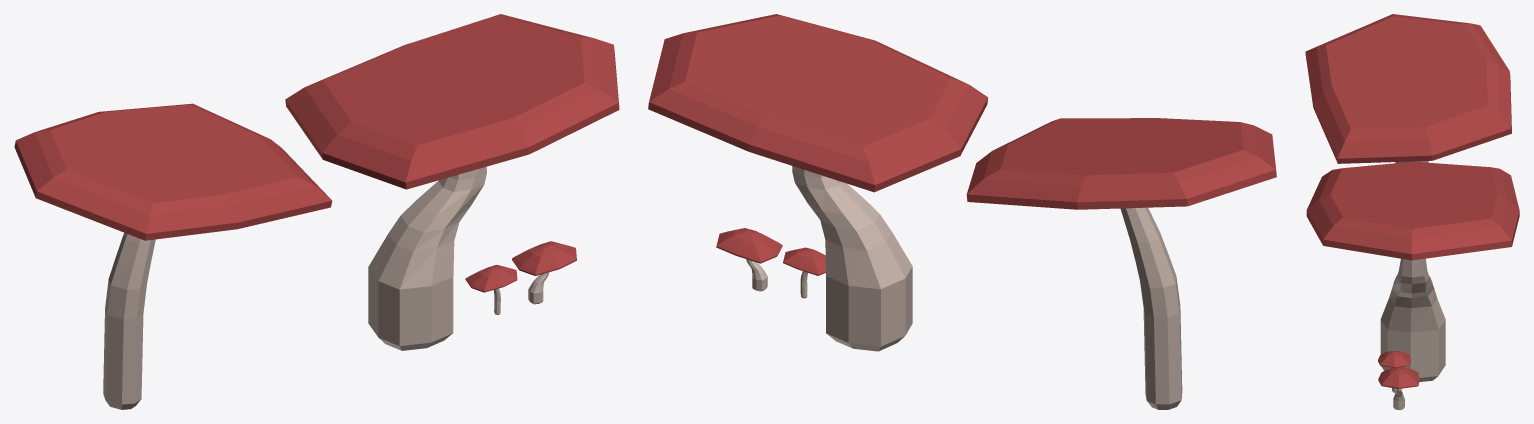
The model's file is MushroomsColoured.fbx.
3 renders of one model, left to right at view 1: azimuth 30°, elevation 25°; view 2: azimuth 150°, elevation 25°; view 3: azimuth 270°, elevation 25°, orthographic. The views are drawn at different scales.
Parts seen in each view (by area): view 1: bigMushroom01, bigMushroom02, smallMushroom01, smallMushroom02; view 2: bigMushroom01, bigMushroom02, smallMushroom01, smallMushroom02; view 3: bigMushroom02, bigMushroom01, smallMushroom01, smallMushroom02.
Part boxes in pixels (x1,y1,x2,y2): bigMushroom01: (285, 14, 619, 350); bigMushroom02: (14, 103, 332, 409); smallMushroom01: (512, 241, 576, 304); smallMushroom02: (465, 264, 517, 314); bigMushroom01: (648, 14, 988, 351); bigMushroom02: (966, 118, 1276, 409); smallMushroom01: (716, 228, 782, 291); smallMushroom02: (783, 247, 825, 298); bigMushroom02: (1305, 14, 1511, 163); bigMushroom01: (1306, 161, 1519, 381); smallMushroom01: (1378, 367, 1419, 409); smallMushroom02: (1378, 351, 1410, 392).
Bounding box in the file's own units: 24.53 × 10.51 × 9.44.
